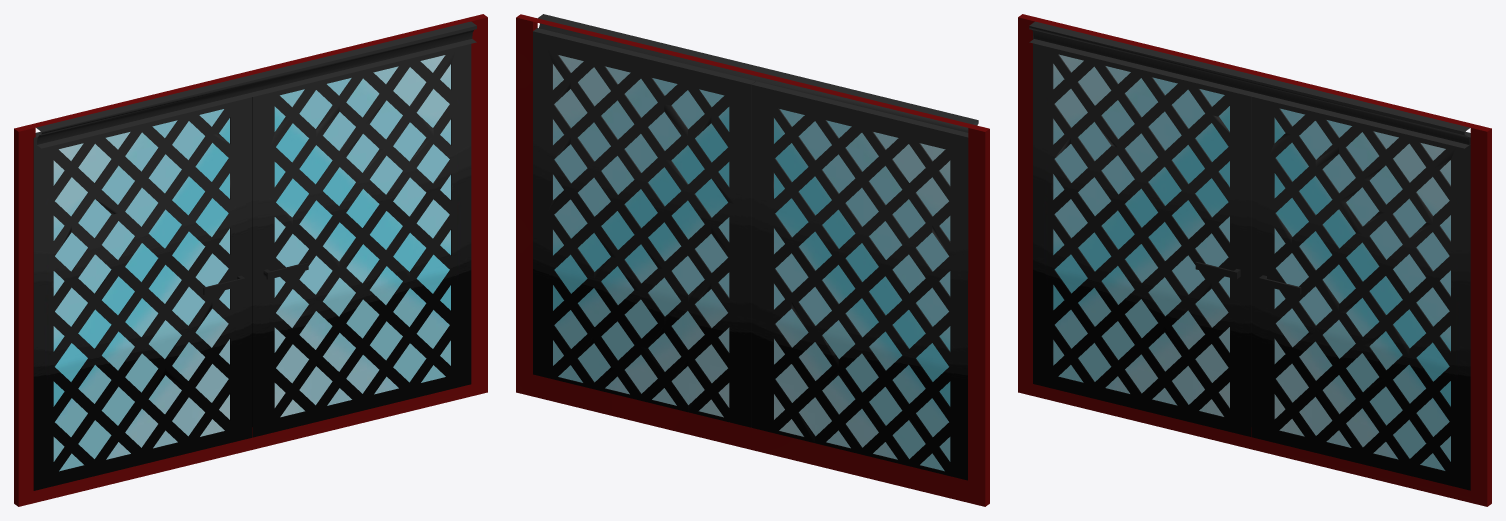
File: GATE 3.fbx
3 renders of one model, left to right at view 1: azimuth 30°, elevation 25°; view 2: azimuth 150°, elevation 25°; view 3: azimuth 330°, elevation 25°, orthographic.
Visible parts, largest first — view 1: DoorLeft_DoorMAT_0.002, DoorRight_DoorMAT_0.002, Room1_RoomMAT_0.002; view 2: DoorRight_DoorMAT_0.002, DoorLeft_DoorMAT_0.002, Room1_RoomMAT_0.002; view 3: DoorRight_DoorMAT_0.002, DoorLeft_DoorMAT_0.002, Room1_RoomMAT_0.002.
Boxes of the visible parts, x1,y1,x2,y2 form: DoorLeft_DoorMAT_0.002: (33, 97, 252, 490); DoorRight_DoorMAT_0.002: (252, 44, 471, 437); Room1_RoomMAT_0.002: (14, 14, 487, 506); DoorRight_DoorMAT_0.002: (533, 28, 755, 427); DoorLeft_DoorMAT_0.002: (751, 81, 968, 480); Room1_RoomMAT_0.002: (516, 14, 989, 506); DoorRight_DoorMAT_0.002: (1252, 97, 1470, 490); DoorLeft_DoorMAT_0.002: (1033, 32, 1251, 436); Room1_RoomMAT_0.002: (1018, 14, 1491, 506).
Size of the model in its own units: 392 by 299 by 15.12.
1 material, 1 textured.
